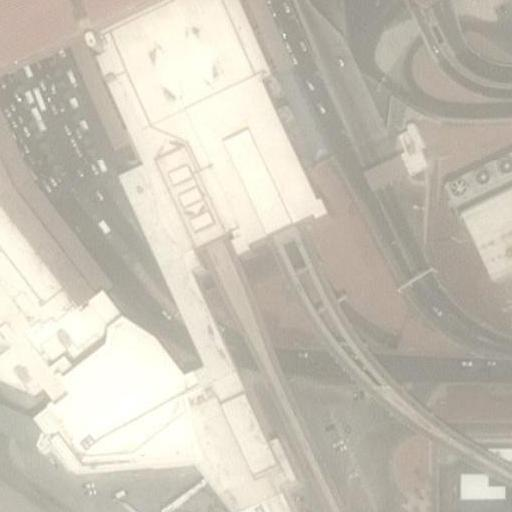Aircraft: (102, 499, 178, 512)
